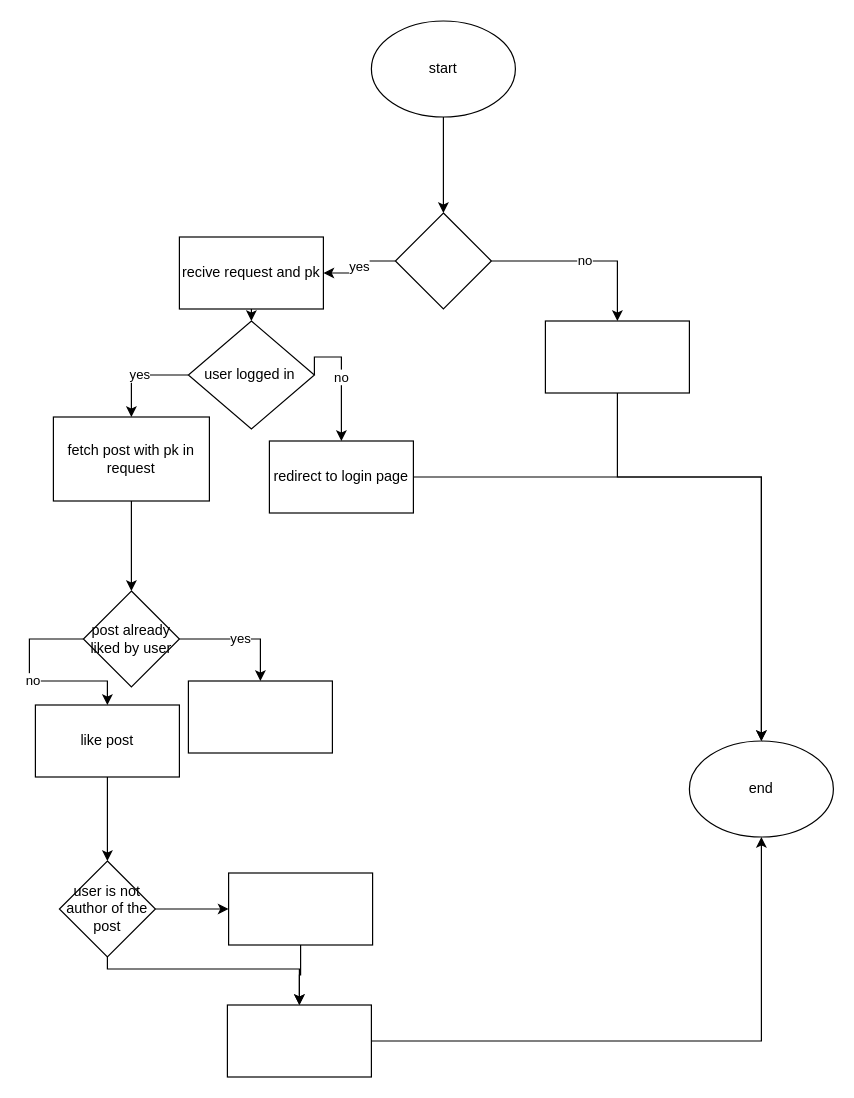
This 854x1098 diagram has some shape labels left out. Each missing label, with the box of its shape:
remove like: (187, 680, 332, 753)
request is post: (394, 212, 491, 309)
send a json response of a like and total of likes: (226, 1004, 371, 1077)
send notification to author: (227, 872, 373, 945)
show error 405: (544, 320, 689, 393)
